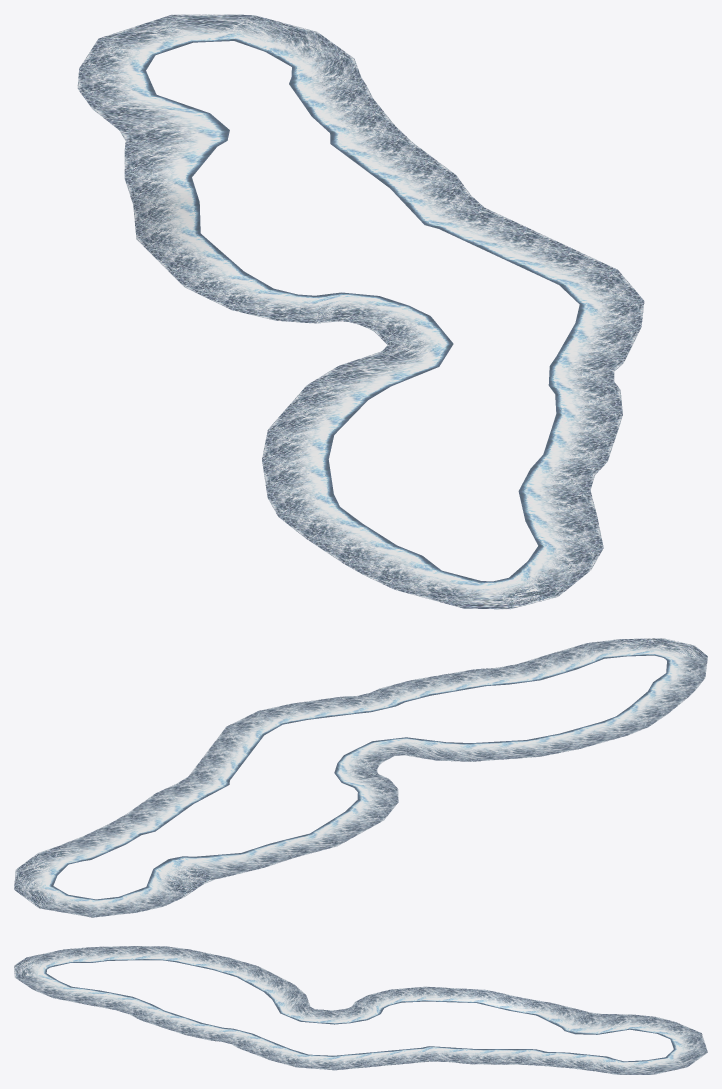
Rendered from island_15_coast.fbx.
3 renders of one model, top to bottom at view 1: azimuth 30°, elevation 25°; view 2: azimuth 150°, elevation 25°; view 3: azimuth 270°, elevation 25°, orthographic. The views are drawn at different scales.
Parts seen in each view (by area): view 1: island_15_coast1; view 2: island_15_coast1; view 3: island_15_coast1.
Boxes of the visible parts, x1,y1,x2,y2 form: island_15_coast1: [77, 14, 644, 609]; island_15_coast1: [14, 638, 707, 917]; island_15_coast1: [14, 946, 707, 1074].
Bounding box in the file's own units: 0.7192 × 0 × 1.64.
